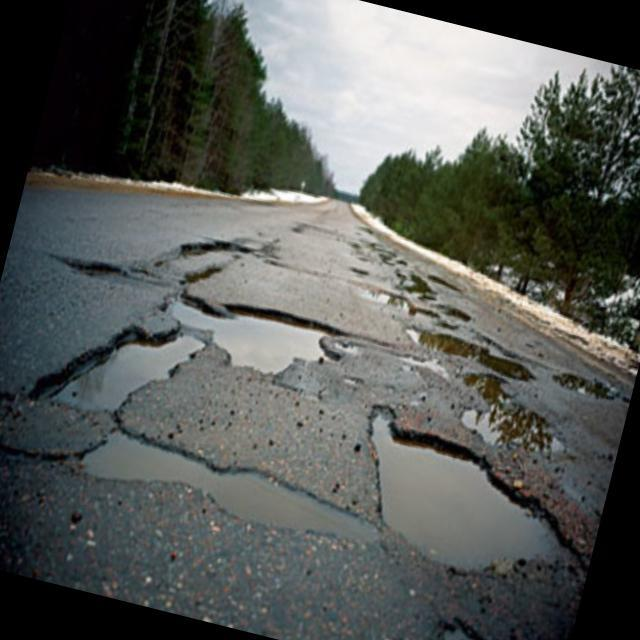Pothole: (2, 284, 448, 606), (320, 398, 588, 628), (152, 270, 372, 400), (387, 312, 558, 410), (148, 191, 292, 305), (337, 276, 478, 341), (55, 209, 149, 301), (547, 360, 631, 416), (330, 252, 410, 306), (380, 252, 437, 298)
